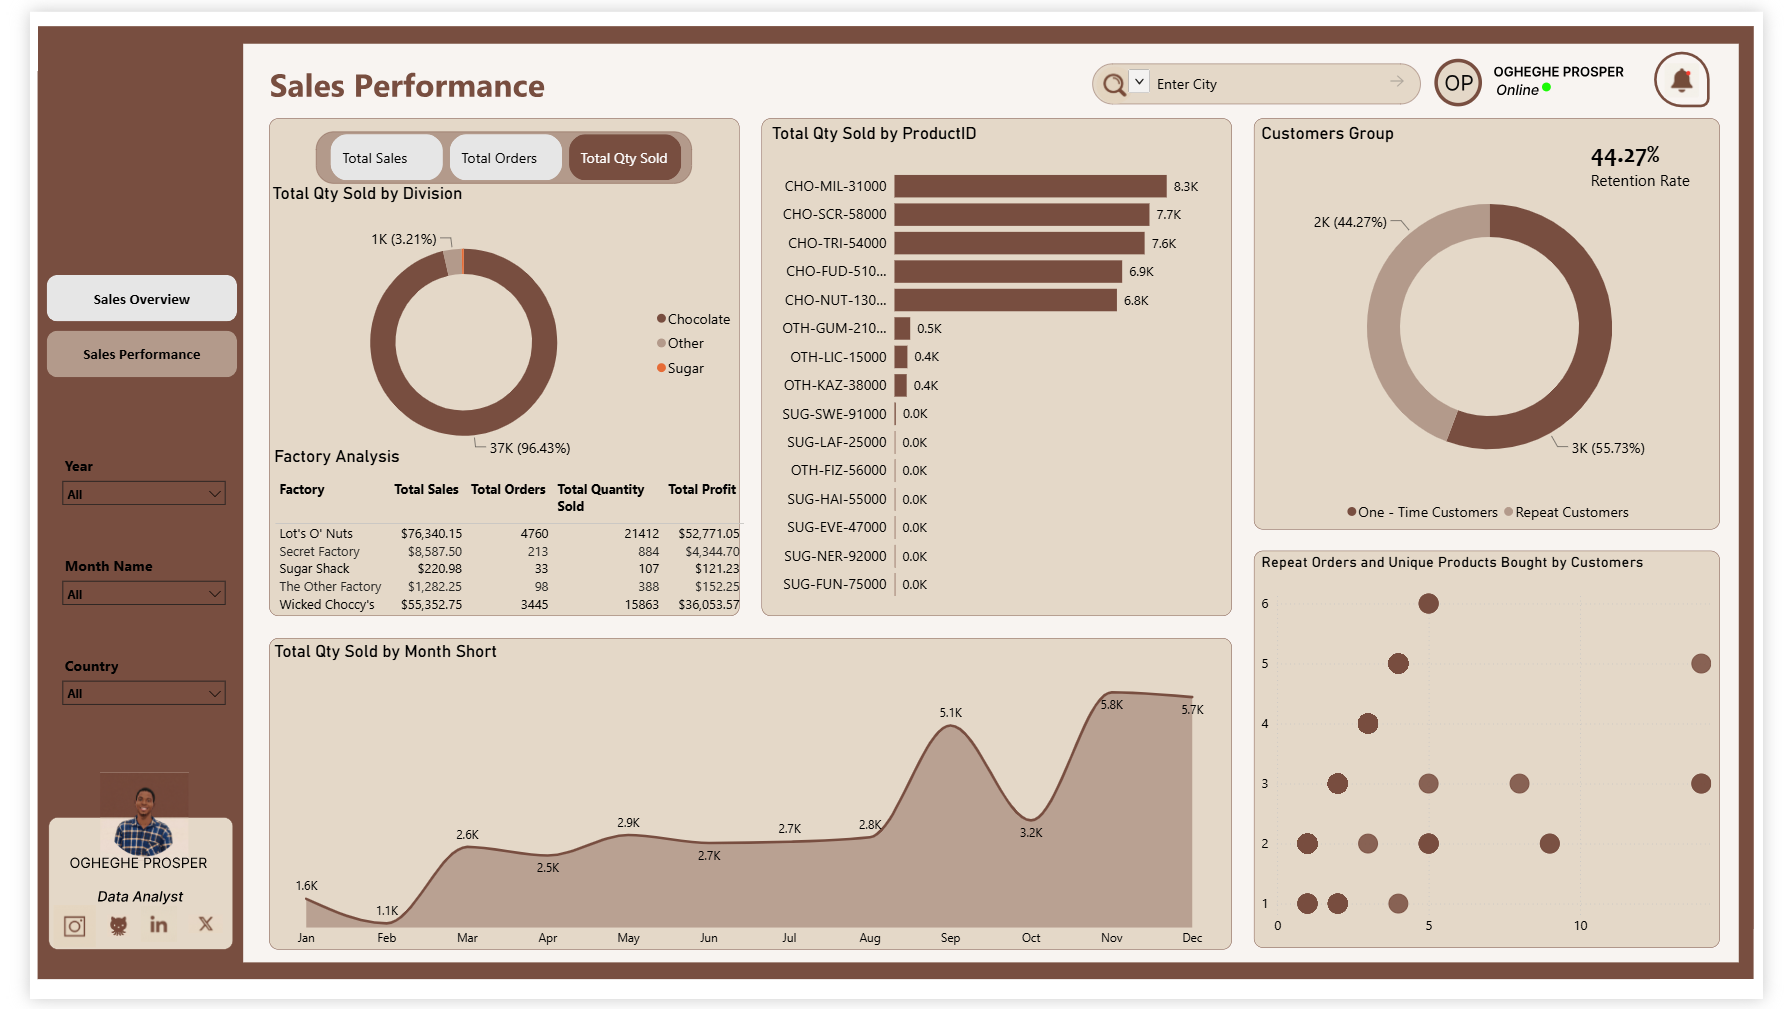

The page's visual inventory and layout, read from the dashboard file:
{"tool":"powerbi","page":{"name":"Sales Performance","canvas":[1965,1119],"ordinal":1},"visuals":[{"type":"advancedSlicerVisual","fields":{"Values":["Parameter.Parameter"]},"box":[335.8,134,407.5,62.3],"z":0},{"type":"donutChart","fields":{"Category":["Dim_Division.Division"],"Y":["Analysis.Total Quantity Sold"]},"box":[270.4,194.4,538.9,327.8],"z":1000},{"type":"barChart","fields":{"Category":["Facts_Sales.ProductID"],"Y":["Analysis.Total Quantity Sold"]},"box":[835.2,125.9,522.2,553.7],"z":2000},{"type":"cardVisual","fields":{"Data":["Analysis.Retention Rate"]},"box":[1738.9,107.4,225.9,131.5],"z":3000},{"type":"donutChart","title":"Customers Group","fields":{"Y":["Analysis.One - Time Customers","Analysis.Repeat Customers"]},"box":[1390.9,127.3,527.3,460],"z":4000},{"type":"tableEx","title":"Factory Analysis","fields":{"Values":["Dim_Factory.Factory","Analysis.Total Sales","Analysis.Total Orders","Analysis.Total Quantity Sold","Analysis.Total Profit"]},"box":[272.2,492.6,544.4,194.4],"z":5000},{"type":"scatterChart","title":"Repeat Orders and Unique Products Bought by Customers","fields":{"Category":["Facts_Sales.CustomerID"],"X":["Analysis.Number of Repeat Orders"],"Y":["Analysis.Unique Products Bought"]},"box":[1390.7,613,527.8,442.6],"z":6000},{"type":"areaChart","fields":{"Category":["Calendar.Month Short"],"Y":["Analysis.Total Quantity Sold"]},"box":[272.2,713,1087,355.6],"z":7000},{"type":"slicer","fields":{"Values":["Dim_Location.Country"]},"box":[25.7,723.7,205.6,74.1],"z":8000},{"type":"slicer","fields":{"Values":["Calendar.Month Name"]},"box":[25.7,610.7,205.6,74.1],"z":9000},{"type":"textSlicer","fields":{"Values":["Dim_Location.City"]},"box":[1232,56,342,52],"z":10000},{"type":"slicer","fields":{"Values":["Calendar.Year"]},"box":[25.7,497.8,205.6,74.1],"z":11000},{"type":"pageNavigator","box":[18,298,216,116],"z":12000},{"type":"actionButton","box":[34,1018,36,32],"z":13000},{"type":"actionButton","box":[83,1018,36,32],"z":14000},{"type":"actionButton","box":[129,1018,36,32],"z":15000},{"type":"actionButton","box":[183,1018,36,32],"z":16000}]}

Visuals, with their boxes in screenshot pixels (x1, y1, x2, y2), scaled from the page's 1965x1119 canvas onto the 1784x1009 screenshot:
advancedSlicerVisual - Parameter.Parameter: box=[305, 121, 675, 177]
donutChart - Dim_Division.Division x Analysis.Total Quantity Sold: box=[245, 175, 735, 471]
barChart - Facts_Sales.ProductID x Analysis.Total Quantity Sold: box=[758, 114, 1232, 613]
cardVisual - Analysis.Retention Rate: box=[1579, 97, 1783, 215]
"Customers Group" donutChart: box=[1263, 115, 1742, 530]
"Factory Analysis" tableEx: box=[247, 444, 741, 619]
"Repeat Orders and Unique Products Bought by Customers" scatterChart: box=[1263, 553, 1742, 952]
areaChart - Calendar.Month Short x Analysis.Total Quantity Sold: box=[247, 643, 1234, 964]
slicer - Dim_Location.Country: box=[23, 653, 210, 719]
slicer - Calendar.Month Name: box=[23, 551, 210, 617]
textSlicer - Dim_Location.City: box=[1119, 50, 1429, 97]
slicer - Calendar.Year: box=[23, 449, 210, 516]
pageNavigator: box=[16, 269, 212, 373]
actionButton: box=[31, 918, 64, 947]
actionButton: box=[75, 918, 108, 947]
actionButton: box=[117, 918, 150, 947]
actionButton: box=[166, 918, 199, 947]
